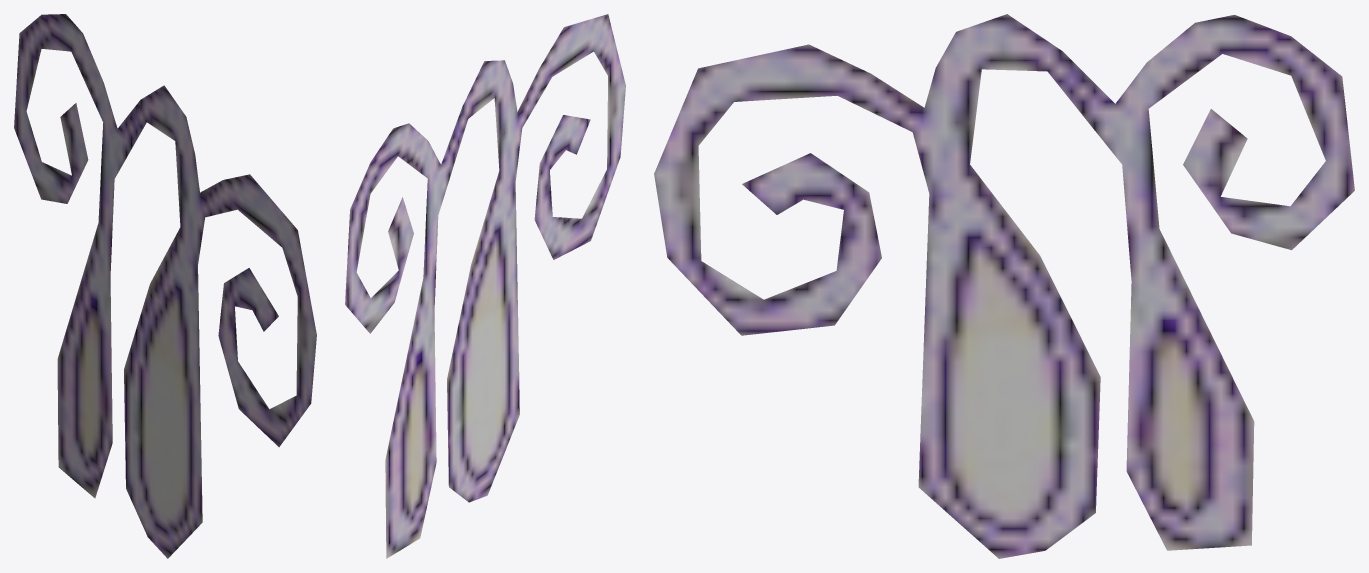
3 views of the same model, side by side, from view 1: azimuth 30°, elevation 25°; view 2: azimuth 150°, elevation 25°; view 3: azimuth 270°, elevation 25° (orthographic). The views are drawn at different scales.
Visible parts, largest first — view 1: Picsart_22-01-21_15-37-57-171.007; view 2: Picsart_22-01-21_15-37-57-171.007; view 3: Picsart_22-01-21_15-37-57-171.007.
Boxes of the visible parts, x1,y1,x2,y2 form: Picsart_22-01-21_15-37-57-171.007: (14,14,316,558); Picsart_22-01-21_15-37-57-171.007: (345,14,625,558); Picsart_22-01-21_15-37-57-171.007: (654,14,1354,558).
Size of the model in its own units: 7.78e-08 by 0.9227 by 1.08.
1 material, 1 textured.
